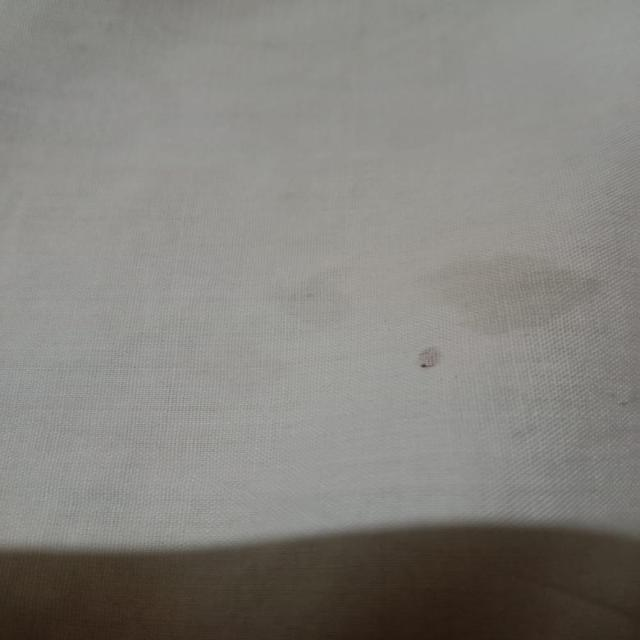stain: (423, 248, 608, 339), (268, 272, 370, 326), (406, 336, 455, 386)
